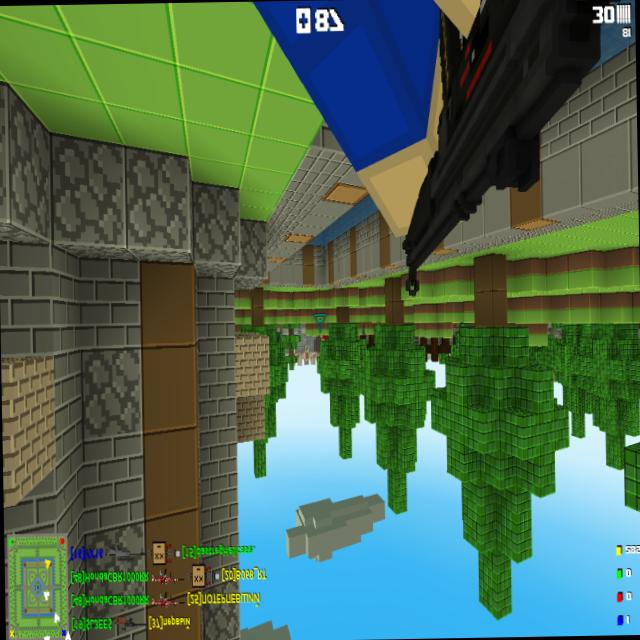enemy: (319, 334, 326, 340)
